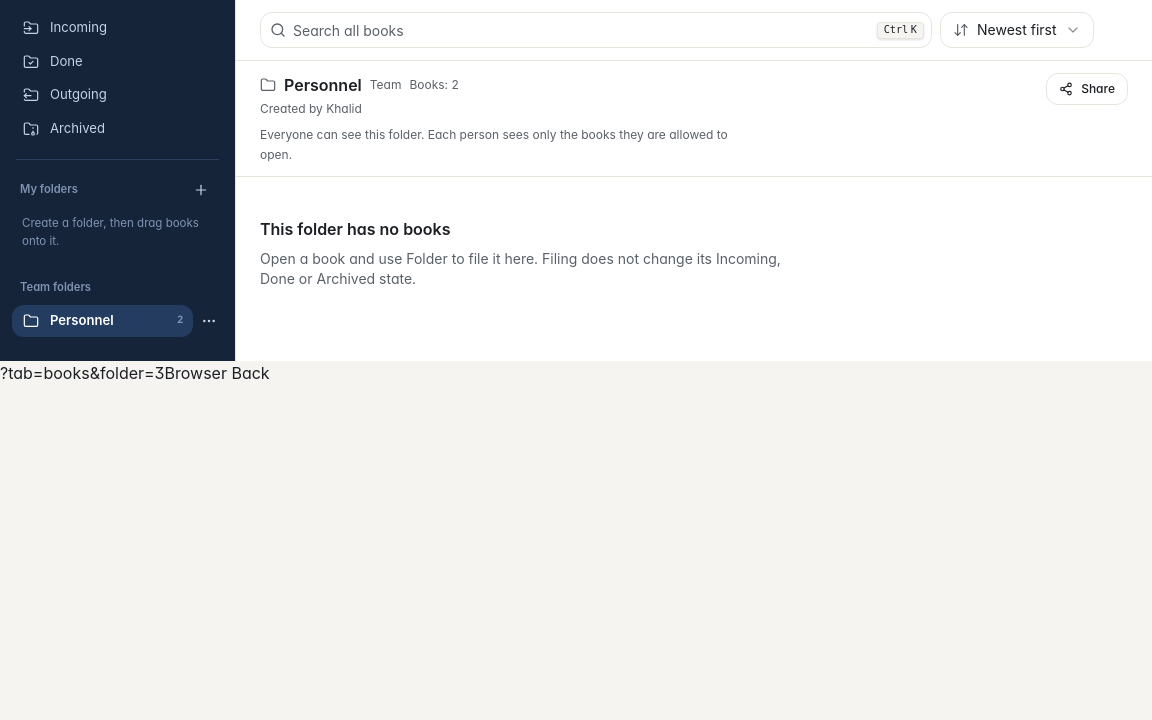
Test case: Books routing desk › saves chosen people and departments and refreshes folders and books
Click the button "Share" at (1087, 89), box [1046,73,1128,105]
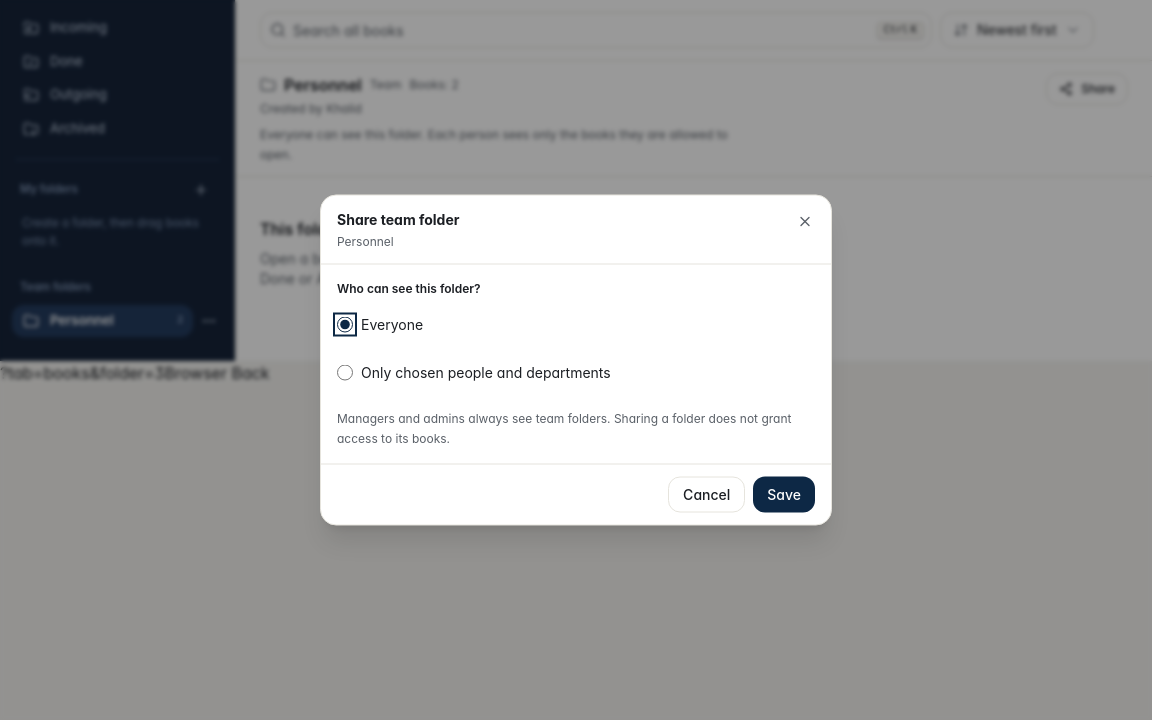
Click the radio button labelled "Only chosen people and departments" at (345, 372), box [337,364,353,380]
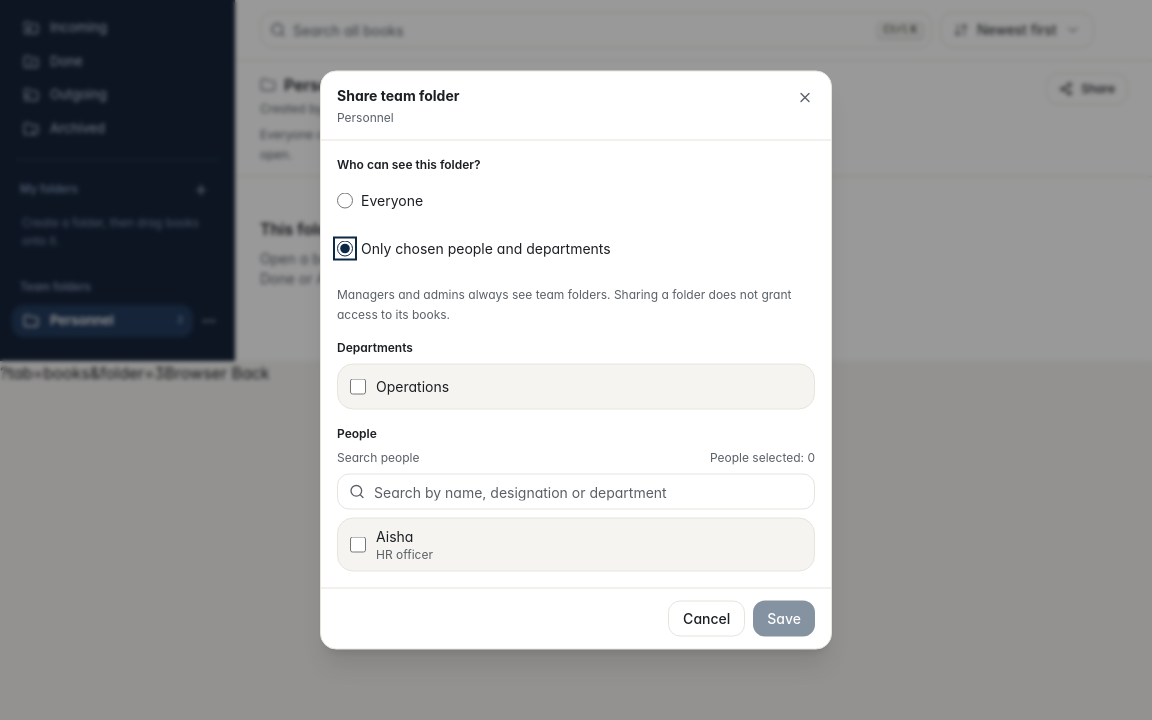
Expected: the button "Save" is disabled, [753,600,815,636]
Click the checkbox labelled "Operations" at (358, 386), box [350,378,366,394]
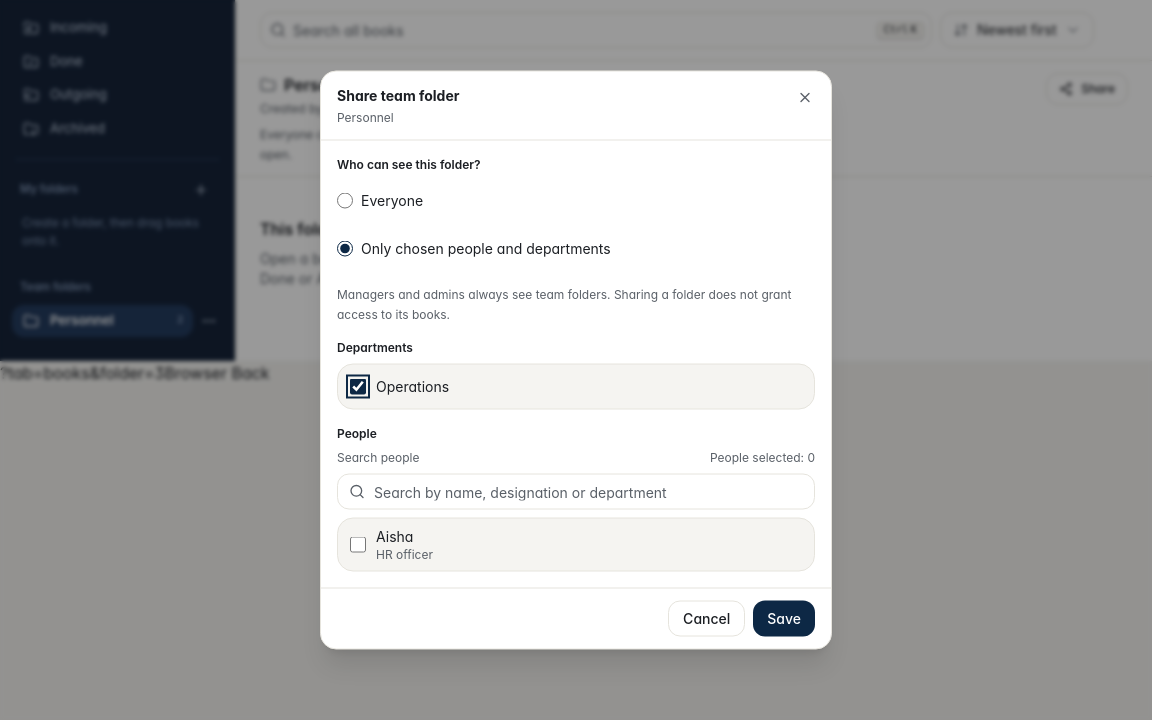
Type "Aisha" into the search field labelled "Search people" at (576, 492), box [337,474,815,510]
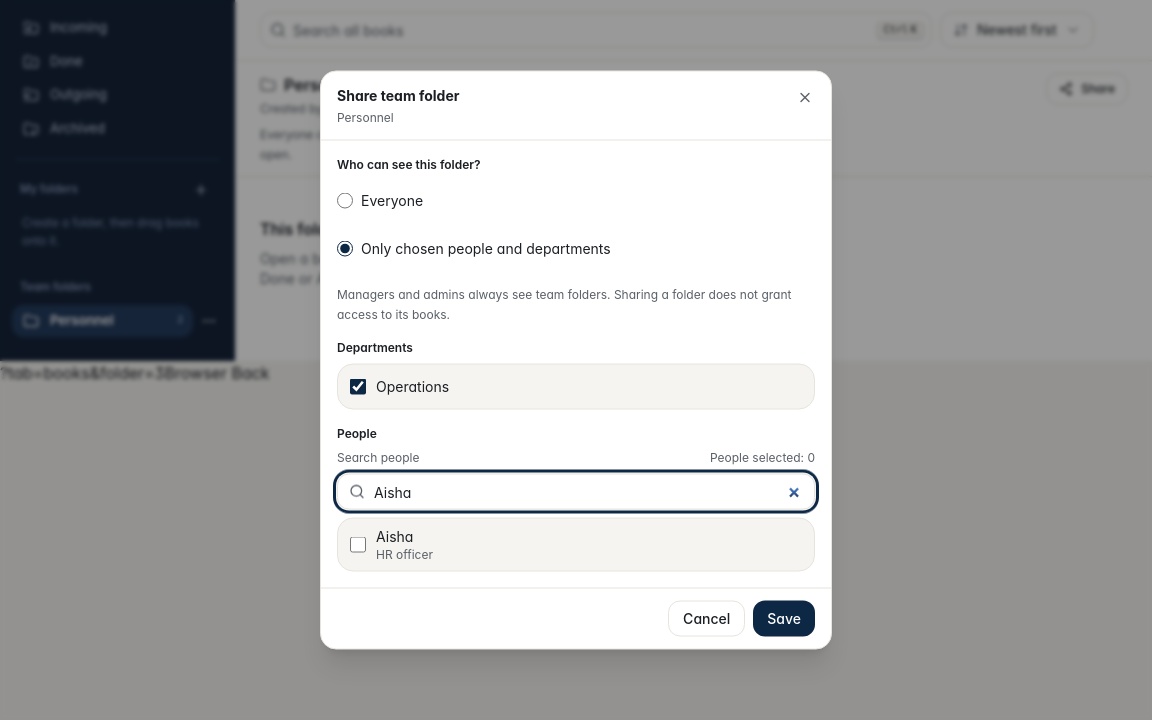
Click the checkbox labelled "Aisha HR officer" at (358, 544), box [350,536,366,552]
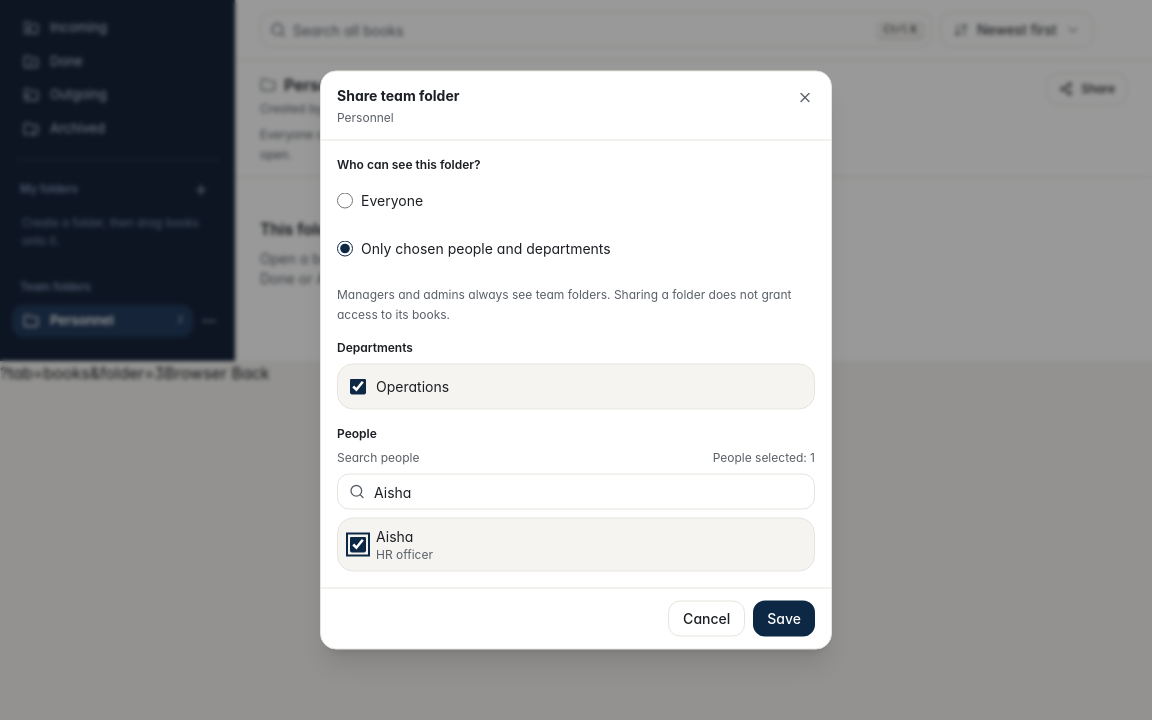
Expected: the text "People selected: 1" is shown, [713,450,815,466]
Click the button "Save" at (784, 618), box [753,600,815,636]
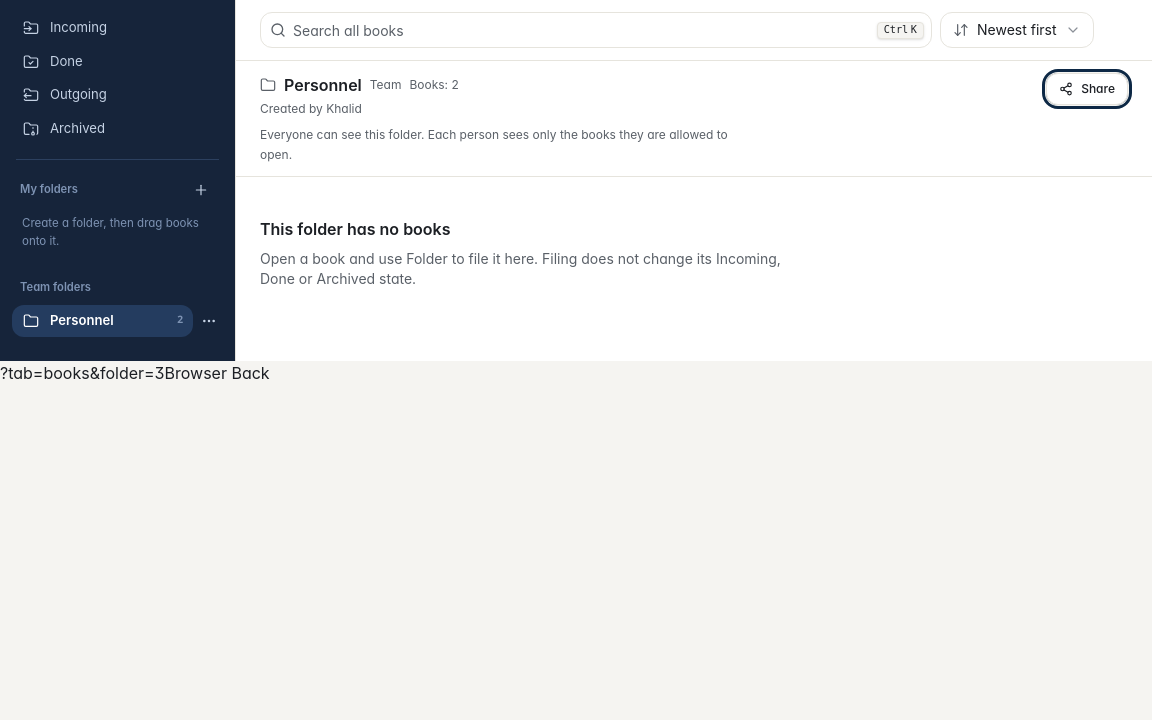
Expected: the dialog is gone
